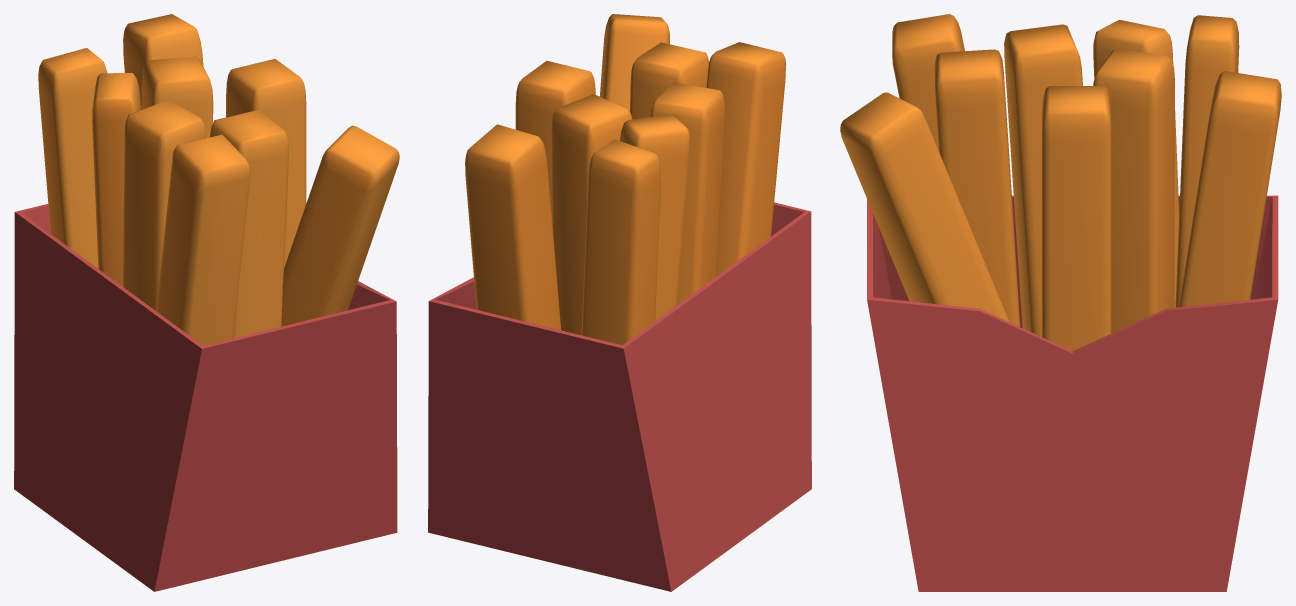
The model's file is Картошка фри.glb.
3 views of the same model, side by side, from view 1: azimuth 30°, elevation 25°; view 2: azimuth 150°, elevation 25°; view 3: azimuth 270°, elevation 25° (orthographic). The views are drawn at different scales.
Visible parts, largest first — view 1: Упаковка, Фри 1.002; view 2: Упаковка, Фри 1.002; view 3: Фри 1.002, Упаковка.
Boxes of the visible parts, bbox=[...] form: Упаковка: bbox=[14, 204, 397, 591]; Фри 1.002: bbox=[38, 14, 399, 345]; Упаковка: bbox=[428, 202, 811, 591]; Фри 1.002: bbox=[465, 14, 786, 345]; Фри 1.002: bbox=[840, 14, 1281, 351]; Упаковка: bbox=[867, 195, 1278, 591].
Size of the model in its own units: 0.8009 by 1.35 by 1.15.
2 materials, 2 textured.
